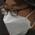with_mask: (1, 1, 35, 35)
